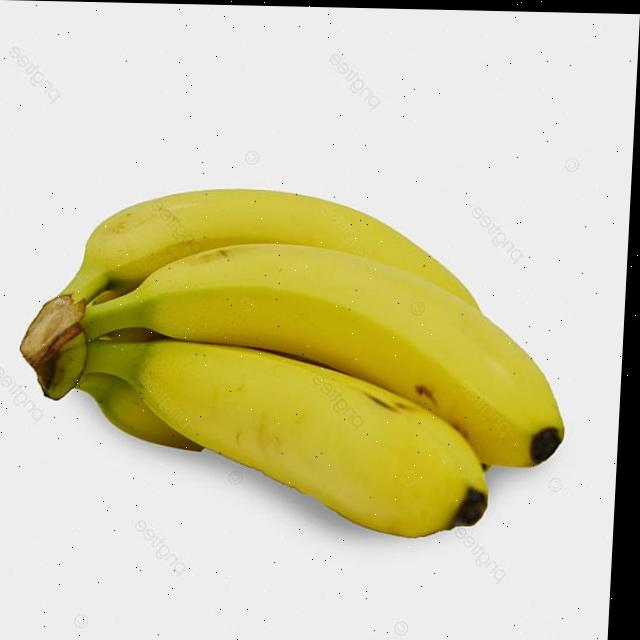banana: (18, 140, 594, 563)
